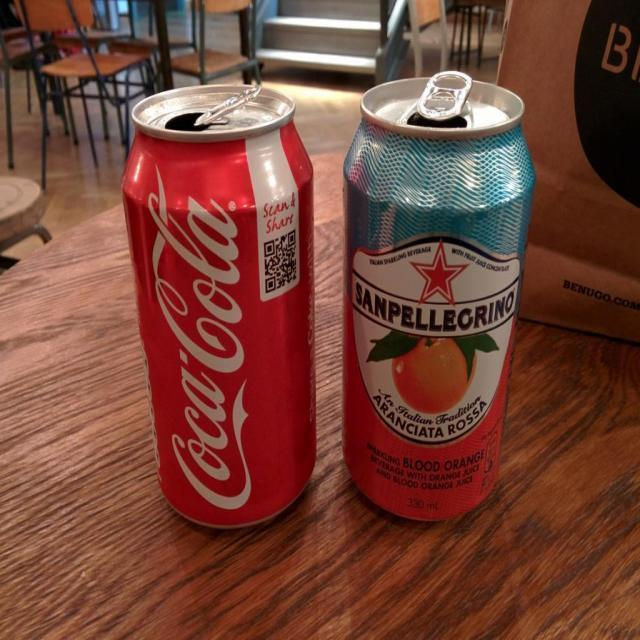metal-can: (335, 63, 548, 550), (115, 73, 325, 541)
